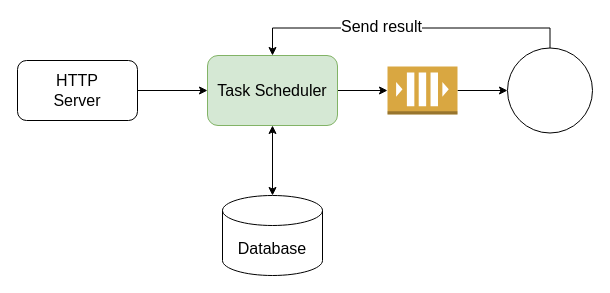
Image size: 610x293. Some labels were removed from this diagram. Here are the shapes that lost their labels. From the top down, the centre of each, then its label:
the point at 422,90: Queue
the point at 549,90: Analysis Engine
